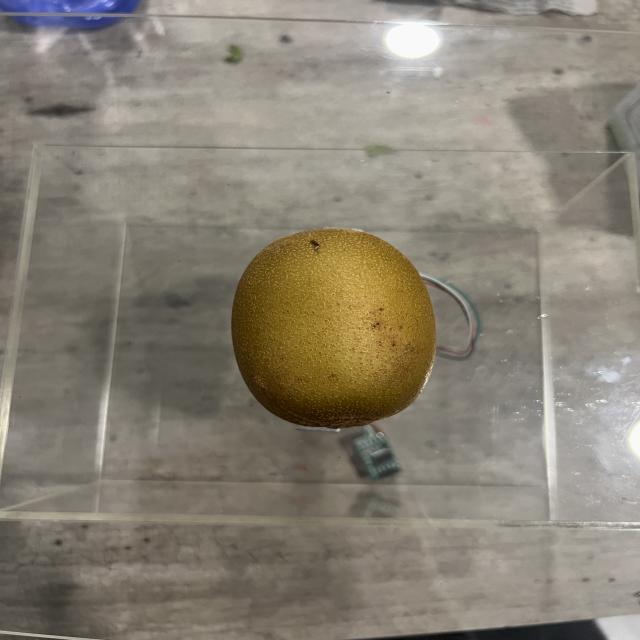kiwi: (232, 226, 436, 428)
